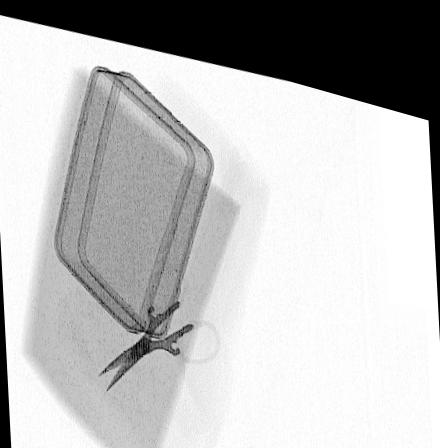Scissors: (94, 248, 224, 392)
